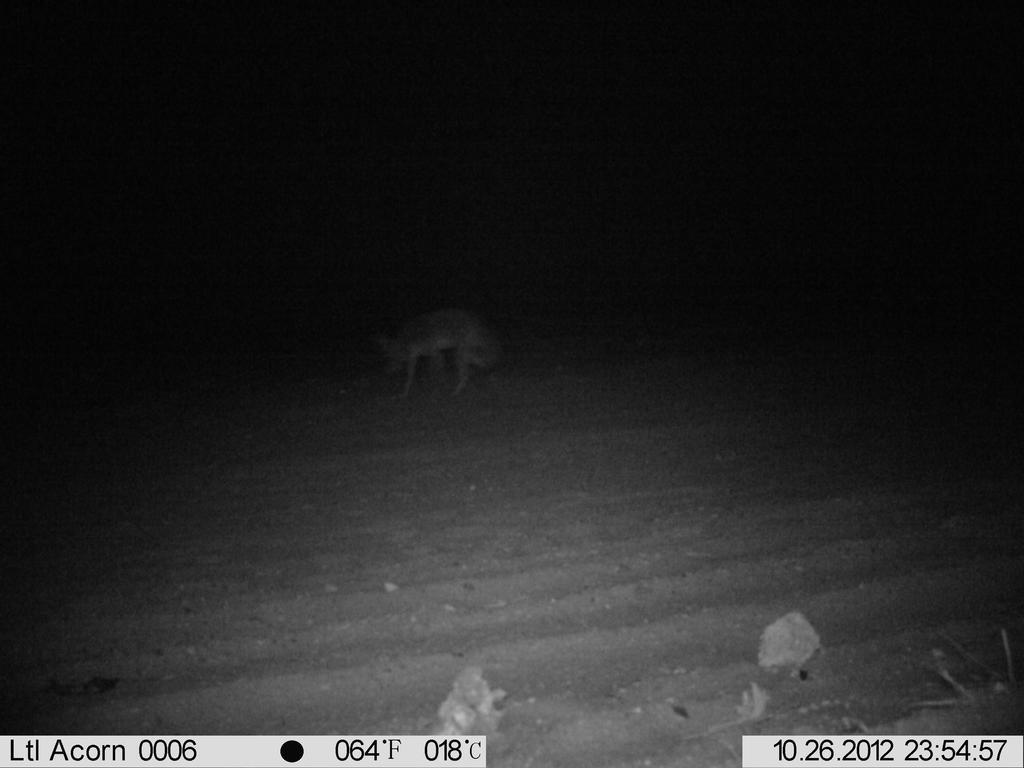coyote: (375, 306, 510, 405)
